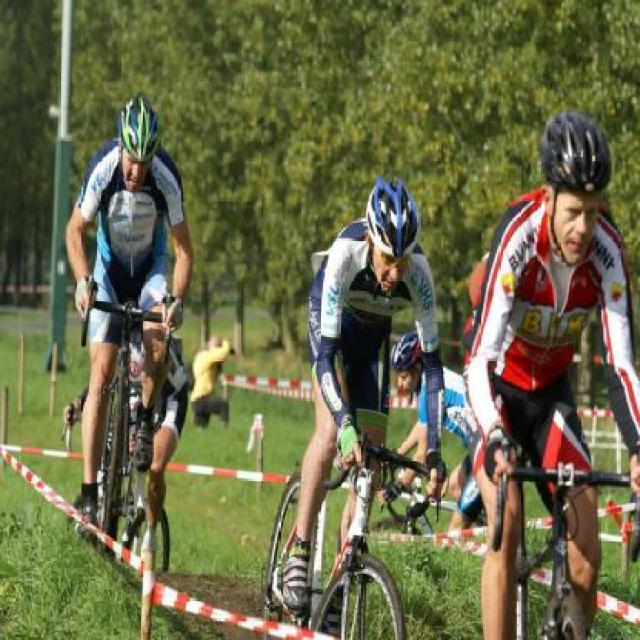sem_oculos: (544, 193, 614, 227), (367, 238, 419, 270), (107, 153, 156, 169)
